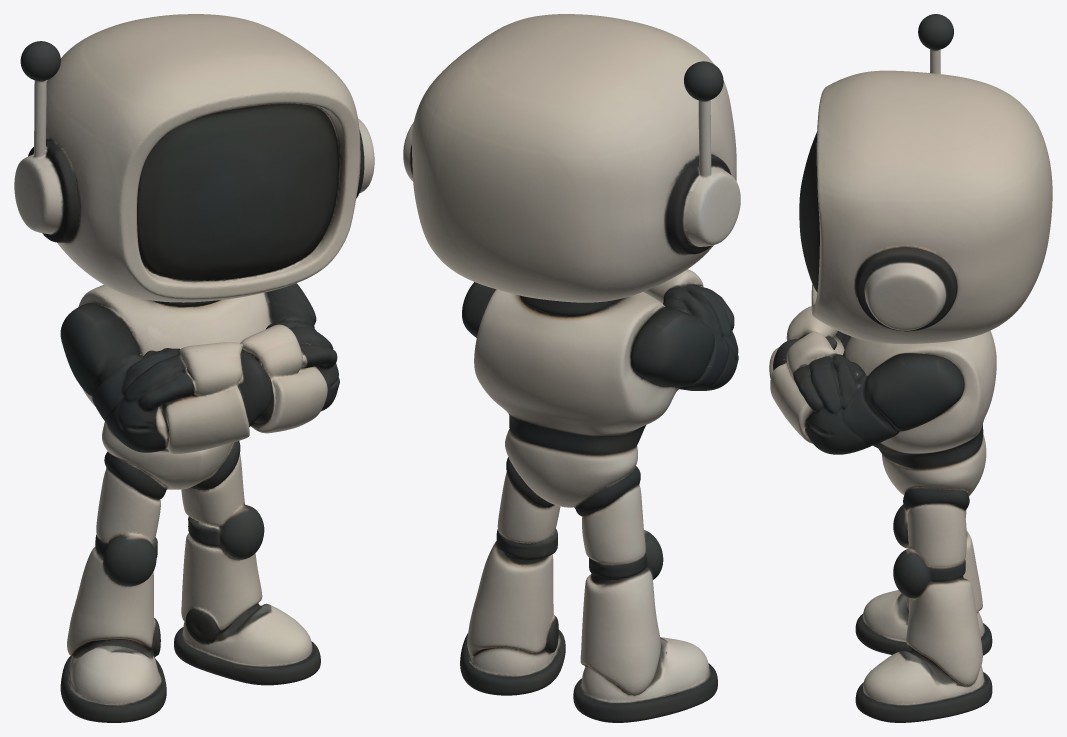
The model's file is robot.glb.
3 views of the same model, side by side, from view 1: azimuth 30°, elevation 25°; view 2: azimuth 150°, elevation 25°; view 3: azimuth 270°, elevation 25° (orthographic). The views are drawn at different scales.
Parts seen in each view (by area): view 1: tripo_node_40b8a55b-beca-49f2-b9d3-84392fdafa59; view 2: tripo_node_40b8a55b-beca-49f2-b9d3-84392fdafa59; view 3: tripo_node_40b8a55b-beca-49f2-b9d3-84392fdafa59.
Part boxes in pixels (left/top/right/bottom): tripo_node_40b8a55b-beca-49f2-b9d3-84392fdafa59: left=14, top=14, right=374, bottom=722; tripo_node_40b8a55b-beca-49f2-b9d3-84392fdafa59: left=403, top=14, right=740, bottom=722; tripo_node_40b8a55b-beca-49f2-b9d3-84392fdafa59: left=769, top=14, right=1052, bottom=722.
Size of the model in its own units: 0.5084 by 1 by 0.4288.
1 material, 1 textured.
